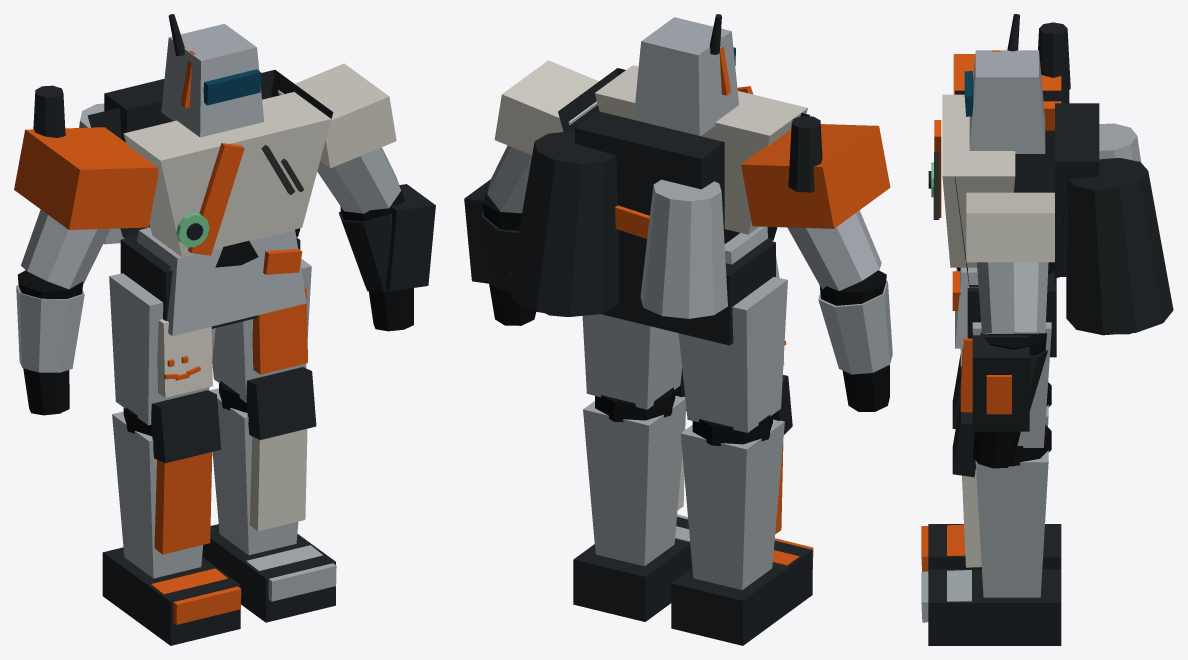
Rendered from yamada_k1_demo.obj.
The picture shows the model from 3 angles, left to right: view 1: azimuth 30°, elevation 25°; view 2: azimuth 150°, elevation 25°; view 3: azimuth 270°, elevation 25°; orthographic projection. The views are drawn at different scales.
Visible parts, largest first — view 1: ChestArmor, ShoulderArmor_L, PelvisArmor, Helmet, Thigh_L, Foot_L, Shin_L, ShoulderArmor_R, Shin_R, Foot_R, ShinFront_L, ShinFront_R (+24 smaller); view 2: Jet_R_Prototype, Shin_L, Shin_R, Thigh_L, ShoulderArmor_L, Jet_L, Helmet, BackFrame, Foot_L, Thigh_R, ChestArmor, Foot_R (+17 smaller); view 3: Jet_R_Prototype, Shin_R, Foot_R, Helmet, ShoulderArmor_R, ChestArmor, UpperArm_R, BackFrame, RightForearmTrialModule, TorsoCore, Foot_L, LeftTrialSensor (+18 smaller).
Part boxes in pixels (x1,y1,x2,y2): ChestArmor: [123, 92, 331, 256]; ShoulderArmor_L: [14, 127, 158, 229]; PelvisArmor: [137, 227, 306, 335]; Helmet: [161, 23, 263, 137]; Thigh_L: [109, 273, 215, 425]; Foot_L: [102, 547, 240, 645]; Shin_L: [112, 411, 203, 578]; ShoulderArmor_R: [278, 63, 396, 168]; Shin_R: [209, 388, 298, 555]; Foot_R: [202, 524, 335, 622]; ShinFront_L: [154, 452, 212, 554]; ShinFront_R: [249, 429, 307, 531]; Jet_R_Prototype: [509, 131, 619, 316]; Shin_L: [680, 419, 784, 589]; Shin_R: [583, 395, 686, 566]; Thigh_L: [678, 277, 787, 432]; ShoulderArmor_L: [741, 124, 890, 228]; Jet_L: [640, 179, 727, 318]; Helmet: [633, 17, 738, 136]; BackFrame: [575, 111, 724, 265]; Foot_L: [671, 540, 812, 645]; Thigh_R: [582, 314, 682, 409]; ChestArmor: [594, 65, 807, 234]; Foot_R: [573, 517, 692, 621]; Jet_R_Prototype: [1066, 158, 1173, 335]; Shin_R: [975, 450, 1048, 597]; Foot_R: [928, 569, 1061, 645]; Helmet: [969, 50, 1045, 153]; ShoulderArmor_R: [966, 192, 1054, 262]; ChestArmor: [942, 94, 1015, 267]; UpperArm_R: [976, 262, 1048, 334]; BackFrame: [1055, 103, 1099, 276]; RightForearmTrialModule: [972, 335, 1029, 431]; TorsoCore: [955, 90, 1069, 287]; Foot_L: [928, 524, 1061, 569]; LeftTrialSensor: [1038, 22, 1070, 90].
Size of the model in its own units: 1.44 by 2 by 0.7957.
